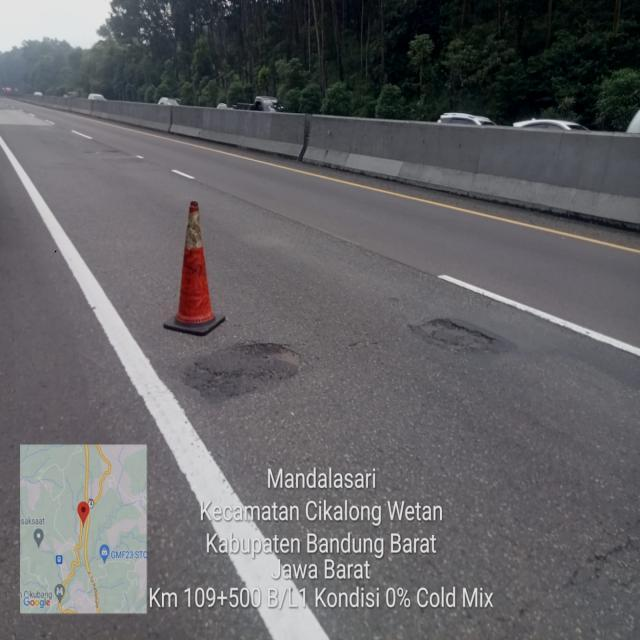Buraco: (404, 316, 500, 355), (224, 338, 310, 374)
